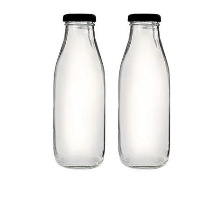bottle: (113, 11, 181, 171), (51, 7, 107, 171)
